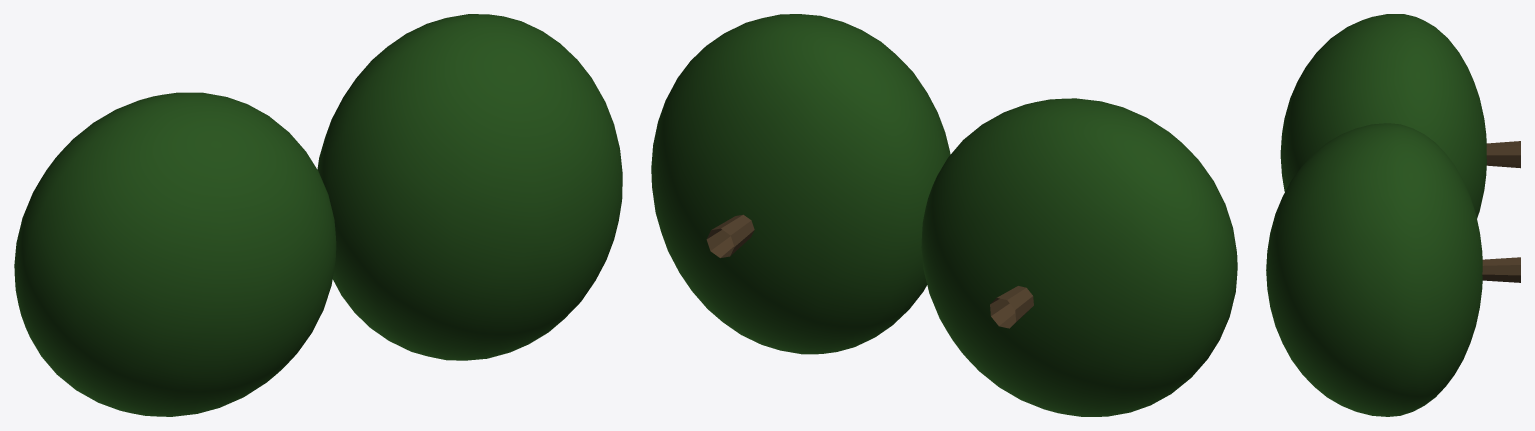
Rendered from citrus_plain2_b.obj.
The picture shows the model from 3 angles, left to right: view 1: azimuth 30°, elevation 25°; view 2: azimuth 150°, elevation 25°; view 3: azimuth 270°, elevation 25°; orthographic projection. The views are drawn at different scales.
Parts seen in each view (by area): view 1: canopy; view 2: canopy, trunk; view 3: canopy, trunk.
Boxes of the visible parts, bbox=[...] form: canopy: bbox=[14, 14, 622, 416]; canopy: bbox=[651, 14, 1237, 416]; trunk: bbox=[706, 214, 1033, 328]; canopy: bbox=[1266, 14, 1486, 416]; trunk: bbox=[1482, 141, 1520, 282].
Bounding box in the file's own units: 6 × 3.26 × 2.78.
